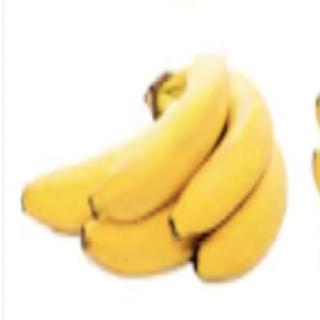banana: (18, 93, 201, 240), (89, 54, 230, 225), (81, 125, 225, 279), (167, 69, 273, 245), (194, 119, 288, 287)
